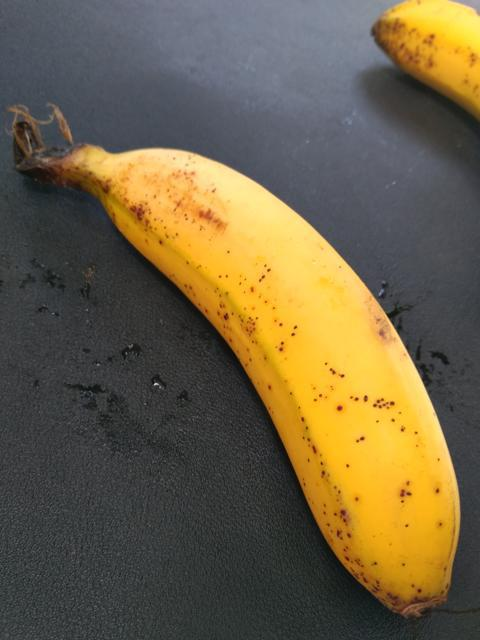ripe: (82, 138, 471, 639)
